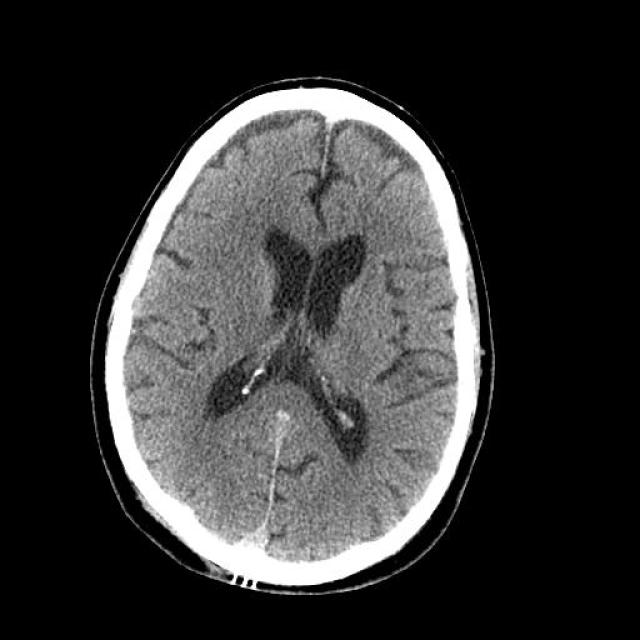Subdural: (231, 406, 311, 574)
